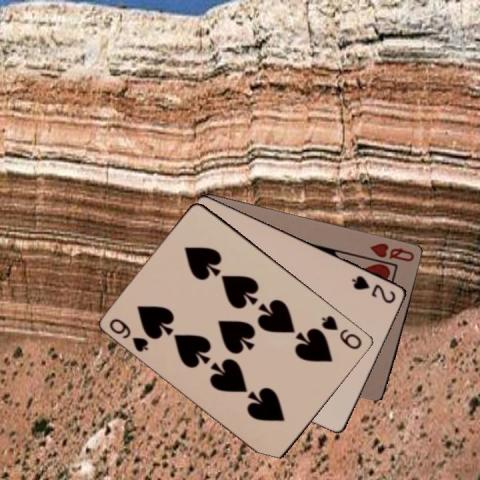2s: (349, 272, 398, 305)
9s: (319, 312, 364, 351), (106, 316, 150, 354)
Qh: (366, 239, 416, 263)
